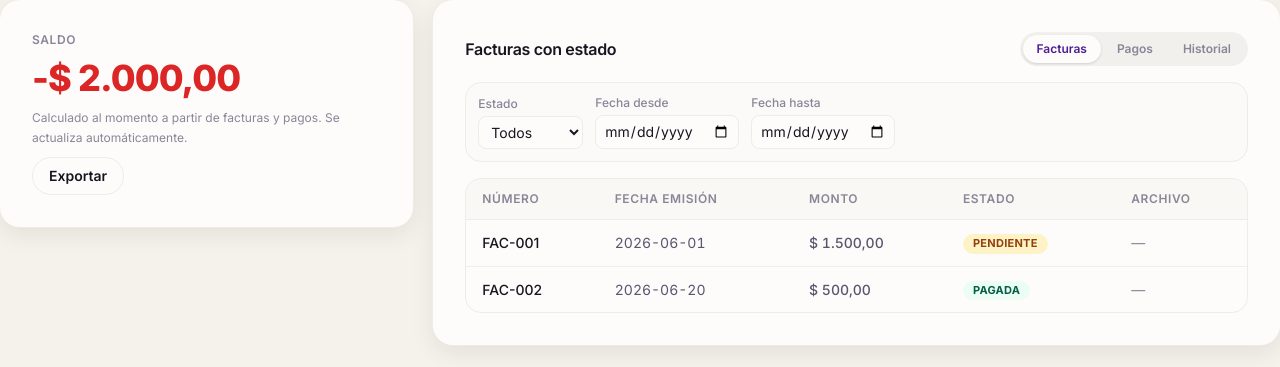
Test case: CuentaCorrientePage › changing the filter in FiltrosFacturas propagates to the table
Expected: the row with test id "tabla-facturas-row-f-1" is shown, [466,220,1247,266]
Expected: the row with test id "tabla-facturas-row-f-2" is shown, [466,266,1247,312]
Step 1. Select "Pagada" in the dropdown labelled "Estado" → x=531, y=132, box [478,116,583,149]
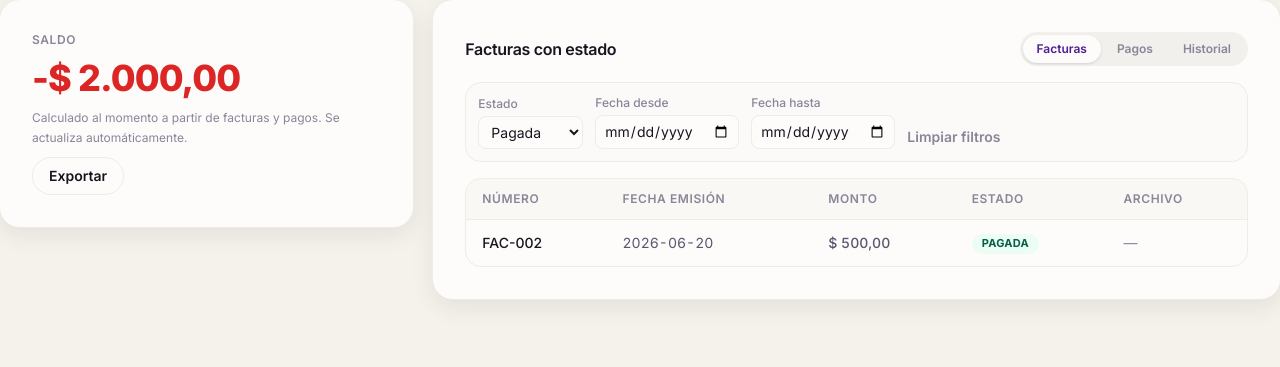
Expected: the row with test id "tabla-facturas-row-f-2" is shown, [466,220,1247,266]
Result: the row with test id "tabla-facturas-row-f-1" is gone
